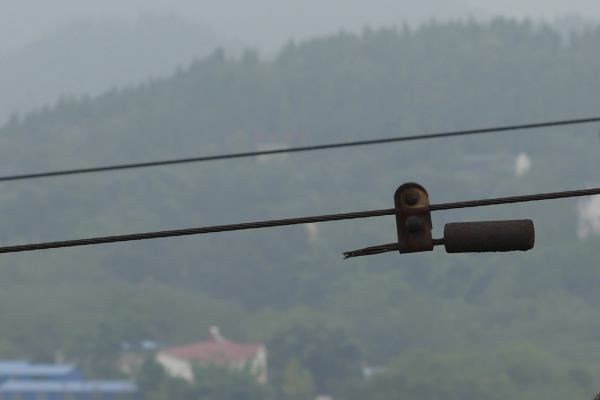damper_defect: (332, 178, 538, 263)
